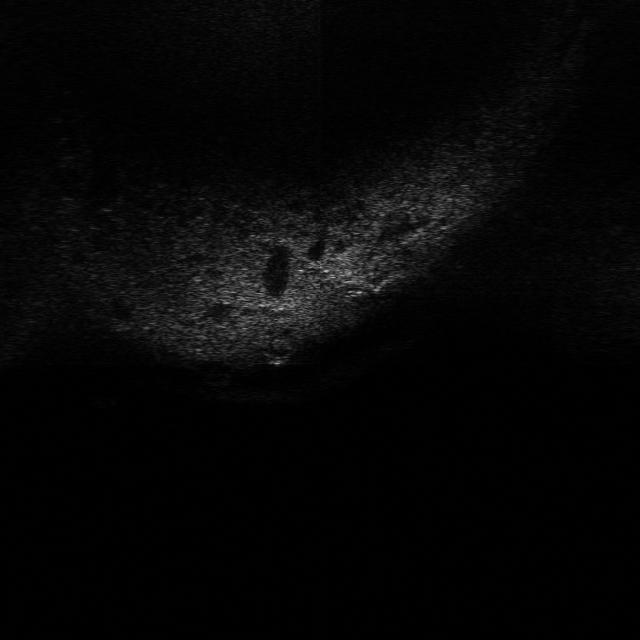ball: (253, 331, 299, 368)
cube: (82, 380, 127, 411)
